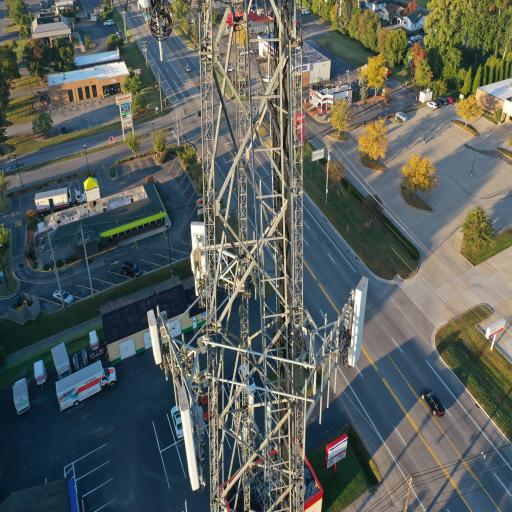supporting_tower: (148, 0, 385, 512)
